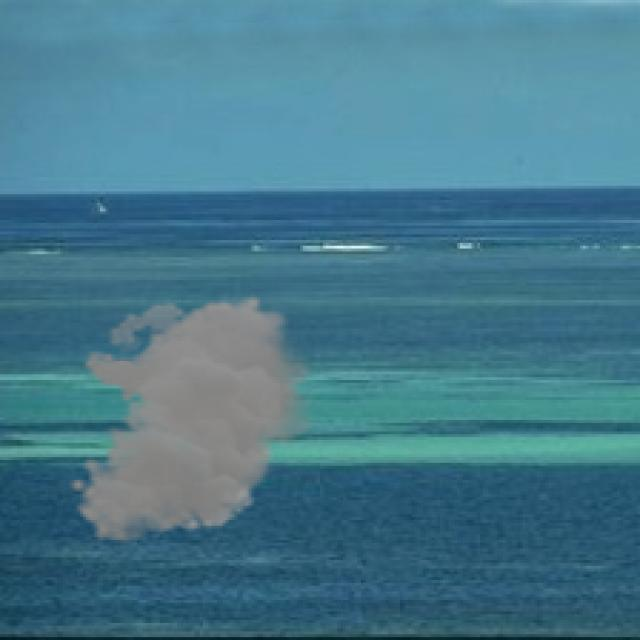smoke: (68, 294, 323, 543)
